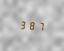eight: (27, 19, 34, 31)
seven: (35, 20, 42, 31)
three: (18, 19, 25, 30)
